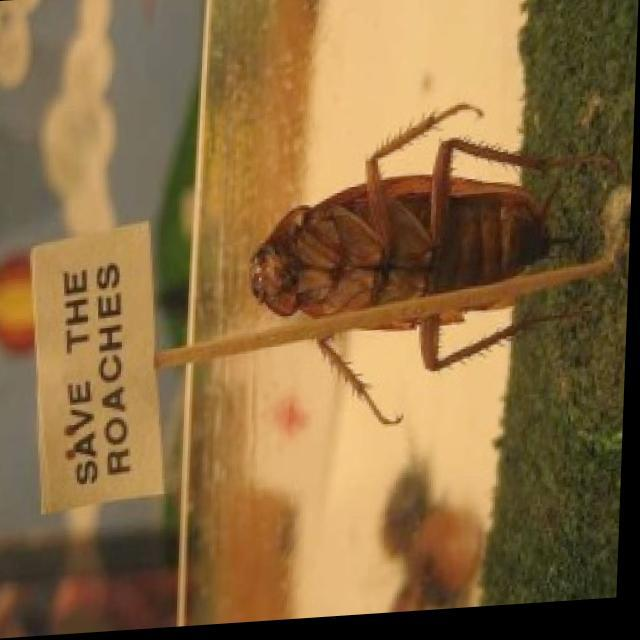cockroach: (247, 173, 550, 319)
